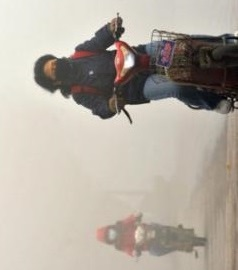person: (31, 19, 231, 119), (94, 210, 210, 260)
